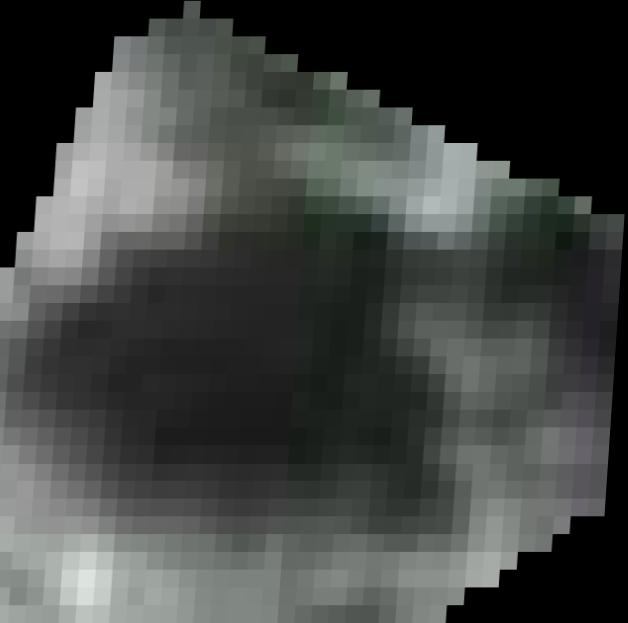Pitting Corrosion: (0, 1, 627, 623)
